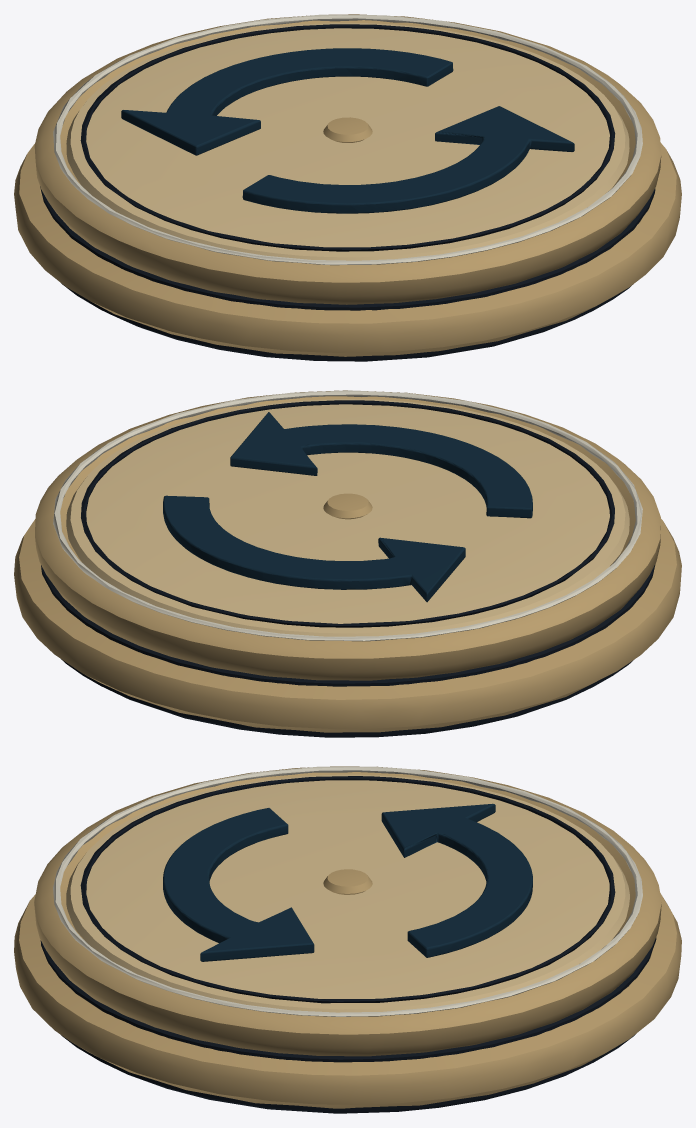
Rendered from reroll-button-lod1.glb.
3 renders of one model, top to bottom at view 1: azimuth 30°, elevation 25°; view 2: azimuth 150°, elevation 25°; view 3: azimuth 270°, elevation 25°, orthographic.
Parts seen in each view (by area): view 1: Export Slightly crowned satin face, Export Stationary rolled collar, Export Spring cap turned shoulder, Export Clockwise enamel arrow.001, Export Clockwise enamel arrow, Export Polished fine outer reveal, Export Hairline enamel border, Export Narrow travel shadow, Export Recessed mounting foot, Export Center brass pivot; view 2: Export Slightly crowned satin face, Export Stationary rolled collar, Export Spring cap turned shoulder, Export Clockwise enamel arrow, Export Clockwise enamel arrow.001, Export Polished fine outer reveal, Export Hairline enamel border, Export Narrow travel shadow, Export Recessed mounting foot, Export Center brass pivot; view 3: Export Slightly crowned satin face, Export Stationary rolled collar, Export Spring cap turned shoulder, Export Clockwise enamel arrow.001, Export Clockwise enamel arrow, Export Polished fine outer reveal, Export Hairline enamel border, Export Narrow travel shadow, Export Recessed mounting foot, Export Center brass pivot.
Part boxes in pixels (<box>): Export Slightly crowned satin face: <box>66,23,629,260</box>; Export Stationary rolled collar: <box>14,143,681,356</box>; Export Spring cap turned shoulder: <box>34,14,661,304</box>; Export Clockwise enamel arrow.001: <box>242,106,574,213</box>; Export Clockwise enamel arrow: <box>121,48,453,155</box>; Export Polished fine outer reveal: <box>53,14,642,265</box>; Export Hairline enamel border: <box>80,24,615,251</box>; Export Narrow travel shadow: <box>40,186,655,310</box>; Export Recessed mounting foot: <box>61,283,631,361</box>; Export Center brass pivot: <box>323,117,372,142</box>; Export Slightly crowned satin face: <box>66,399,629,636</box>; Export Stationary rolled collar: <box>14,519,681,732</box>; Export Spring cap turned shoulder: <box>35,390,660,680</box>; Export Clockwise enamel arrow: <box>163,495,465,602</box>; Export Clockwise enamel arrow.001: <box>230,412,532,518</box>; Export Polished fine outer reveal: <box>53,390,642,641</box>; Export Hairline enamel border: <box>81,400,614,627</box>; Export Narrow travel shadow: <box>41,564,655,686</box>; Export Recessed mounting foot: <box>61,659,633,737</box>; Export Center brass pivot: <box>323,493,372,519</box>; Export Slightly crowned satin face: <box>66,774,629,1012</box>; Export Stationary rolled collar: <box>14,893,681,1108</box>; Export Spring cap turned shoulder: <box>34,766,661,1056</box>; Export Clockwise enamel arrow.001: <box>163,808,314,961</box>; Export Clockwise enamel arrow: <box>381,803,532,957</box>; Export Polished fine outer reveal: <box>53,766,642,1016</box>; Export Hairline enamel border: <box>80,776,615,1003</box>; Export Narrow travel shadow: <box>40,937,656,1062</box>; Export Recessed mounting foot: <box>61,1034,635,1113</box>; Export Center brass pivot: <box>323,869,372,894</box>.
Bounding box in the file's own units: 0.065 × 0.0115 × 0.065.
